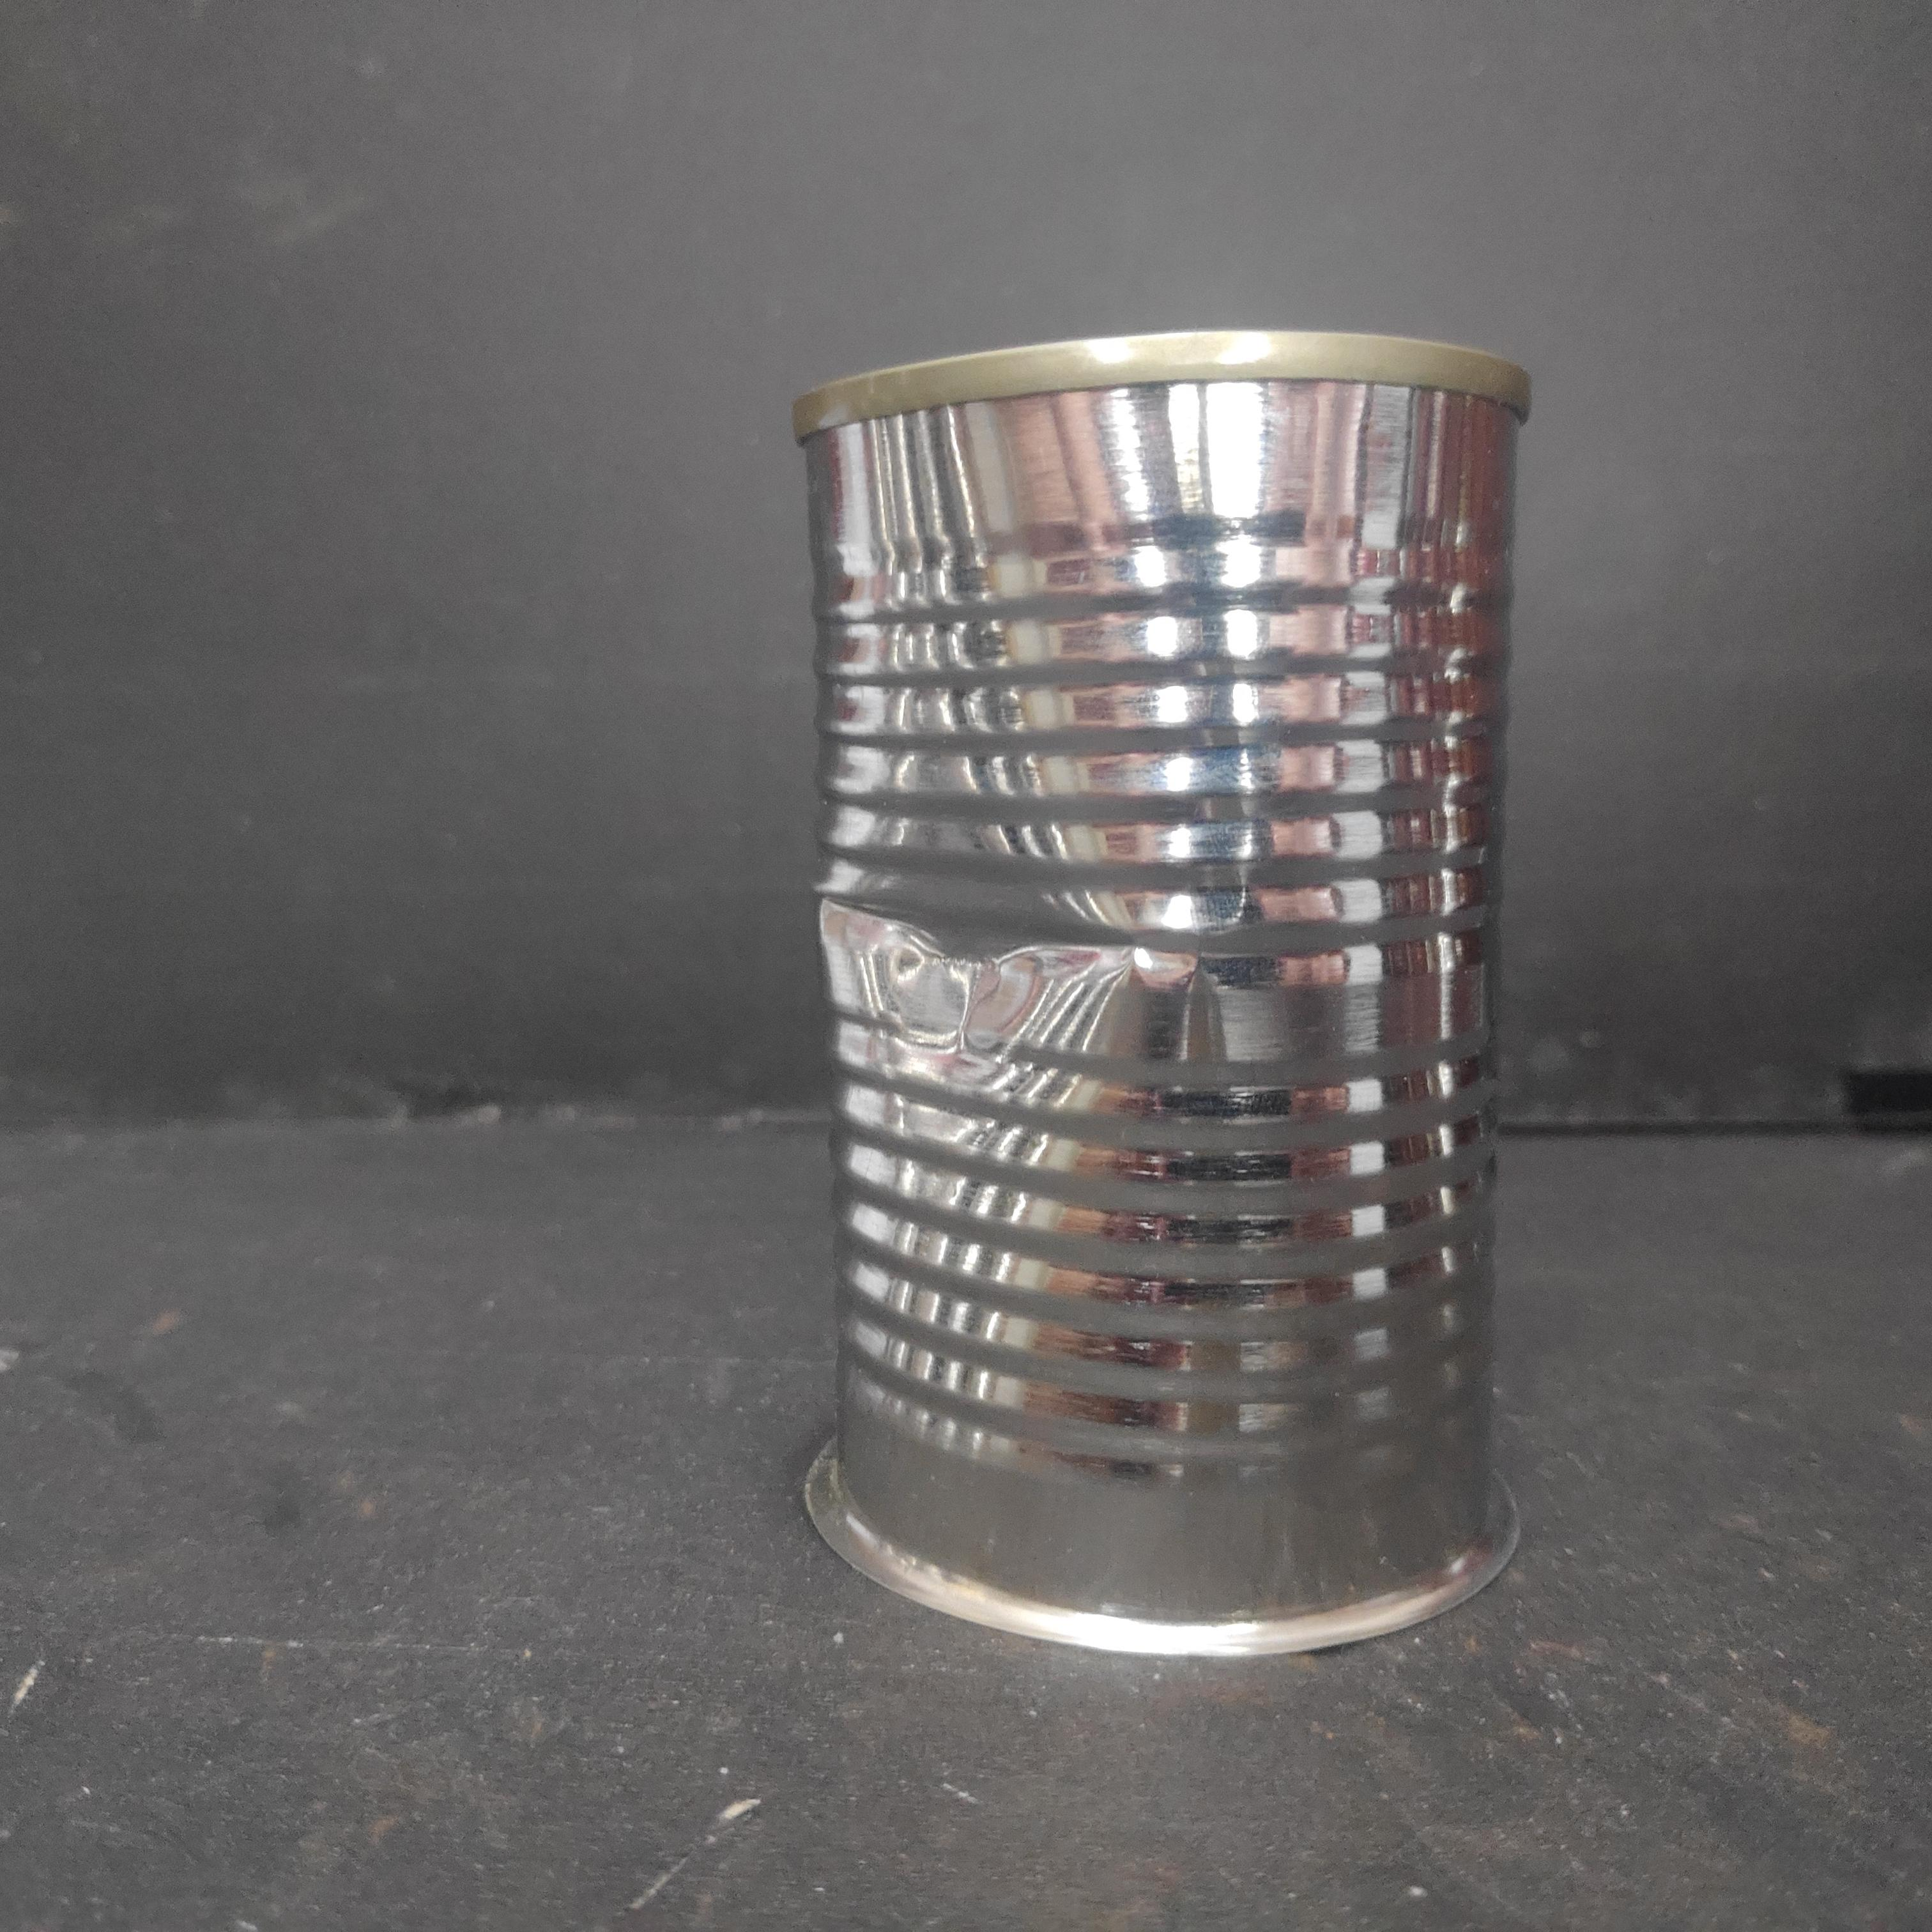Minor Defect: (784, 320, 1552, 1675)
